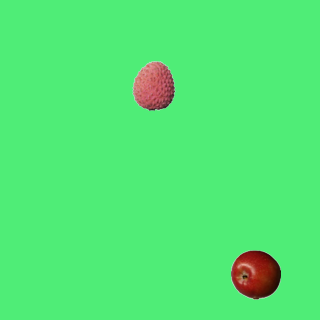Apple Braeburn: (230, 249, 280, 299)
Lychee: (128, 60, 178, 110)
